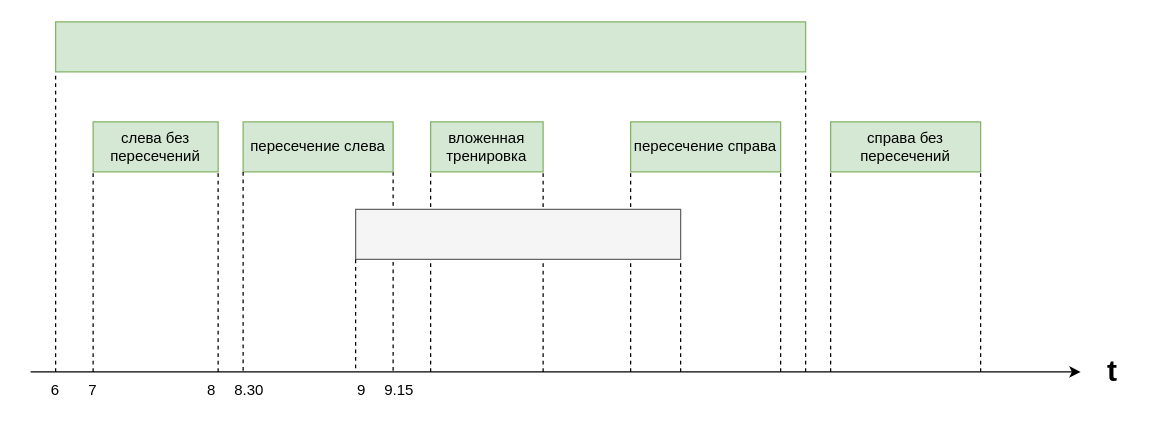
Some shapes in this 1153 by 431 pixel diagram are drawn without their labels. The centre of each missing label's shape, as x and y in pixels:
"перекрывающая" belongs at point (430, 46).
"Целевая тренировка" belongs at point (517, 233).
